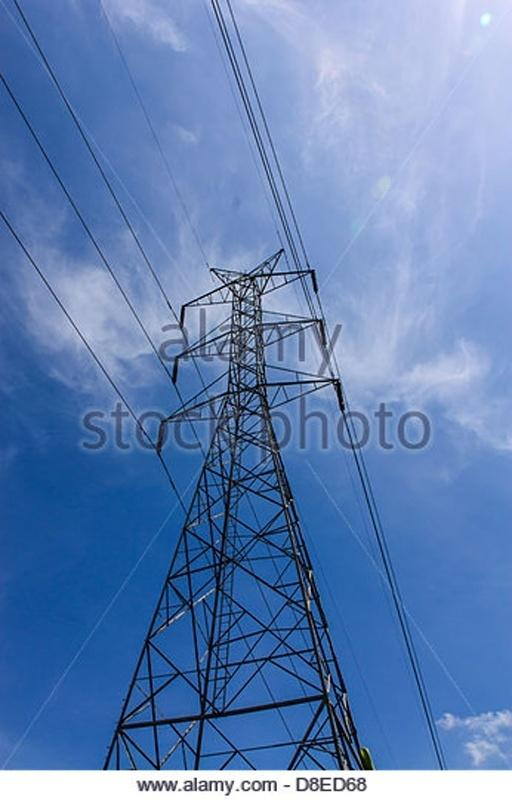power_tower: (129, 252, 379, 701)
